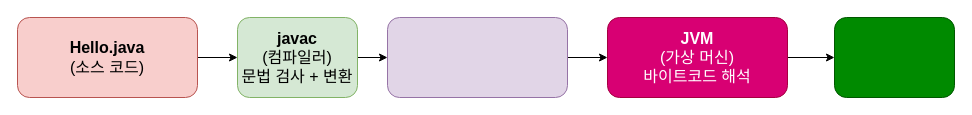
Image size: 972x115. Some labels were removed from this diagram. Here are the shapes that lost their labels. From the top down, the centre of each, then its label:
the point at 477,57: Hello.class (바이트 코드)
the point at 894,57: 실행 (결과) 출력!
